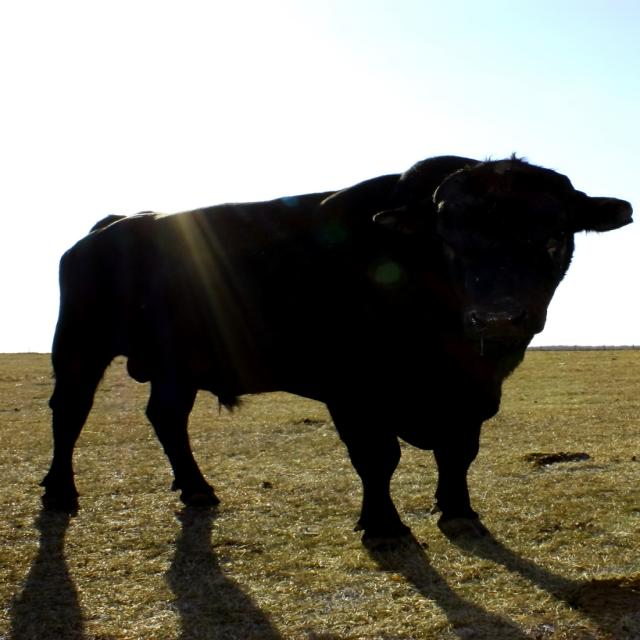Bull: (39, 152, 633, 540)
